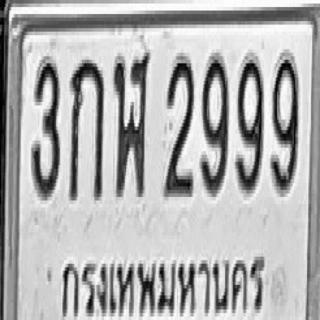A01: (69, 54, 104, 199)
A42: (113, 47, 150, 195)
N02: (164, 51, 194, 195)
N03: (31, 54, 60, 199)
N09: (200, 51, 228, 195), (235, 53, 263, 193), (271, 51, 298, 192)
P04: (51, 235, 268, 320)
